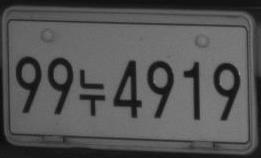1: (181, 61, 208, 120)
4: (112, 58, 142, 118)
9: (146, 59, 174, 118), (212, 61, 240, 120), (14, 55, 42, 113), (46, 56, 74, 114)
누: (78, 68, 106, 116)
